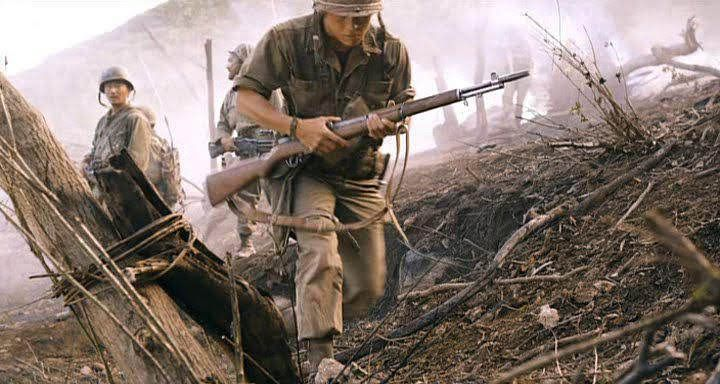gun: (213, 64, 557, 209), (177, 124, 308, 162)
uniform: (246, 13, 415, 334), (83, 101, 158, 186)
